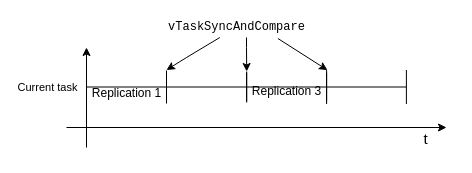
Some shapes in this 472 by 173 pixel diagram are drawn without their labels. The shapes that lost their labels are listed below. From the top down, each one's centre as x and y in pixels, then its label:
At point 206,86: "Replication 2".
At point 366,86: "Comparison logic".
